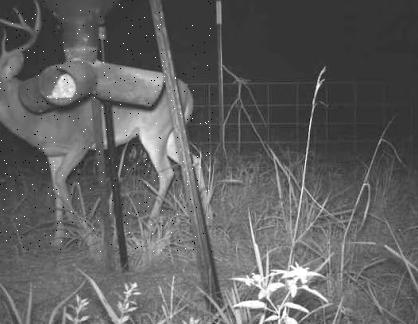Deer: (0, 0, 214, 252)
